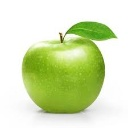apple: (20, 38, 106, 114)
